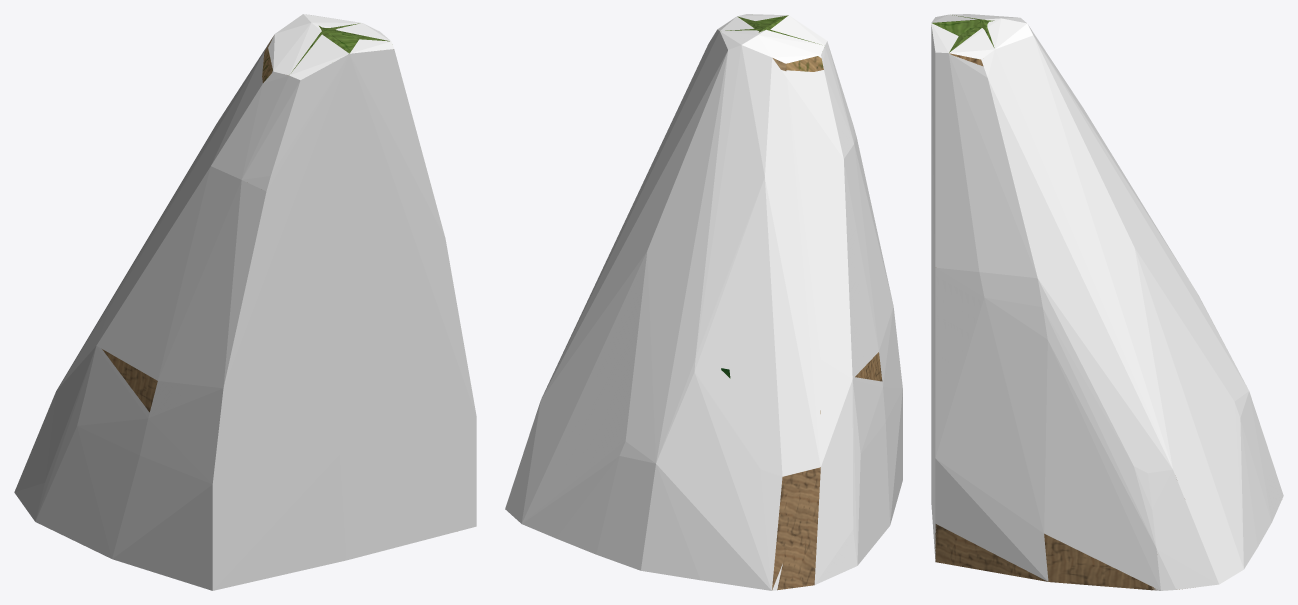
Rendered from upper_cliff_strata_rib.glb.
3 renders of one model, left to right at view 1: azimuth 30°, elevation 25°; view 2: azimuth 150°, elevation 25°; view 3: azimuth 270°, elevation 25°, orthographic. The views are drawn at different scales.
Visible parts, largest first — view 1: col_strata_rib, UpperCliffStrataRib; view 2: col_strata_rib, UpperCliffStrataRib; view 3: col_strata_rib, UpperCliffStrataRib.
Part boxes in pixels (x1,y1,x2,y2): col_strata_rib: (14,14,476,590); UpperCliffStrataRib: (102,23,389,412); col_strata_rib: (505,14,902,590); UpperCliffStrataRib: (721,15,882,590); col_strata_rib: (931,14,1283,590); UpperCliffStrataRib: (932,15,1182,590).
Size of the model in its own units: 14.31 by 17.95 by 11.86.
4 materials, 3 textured.
